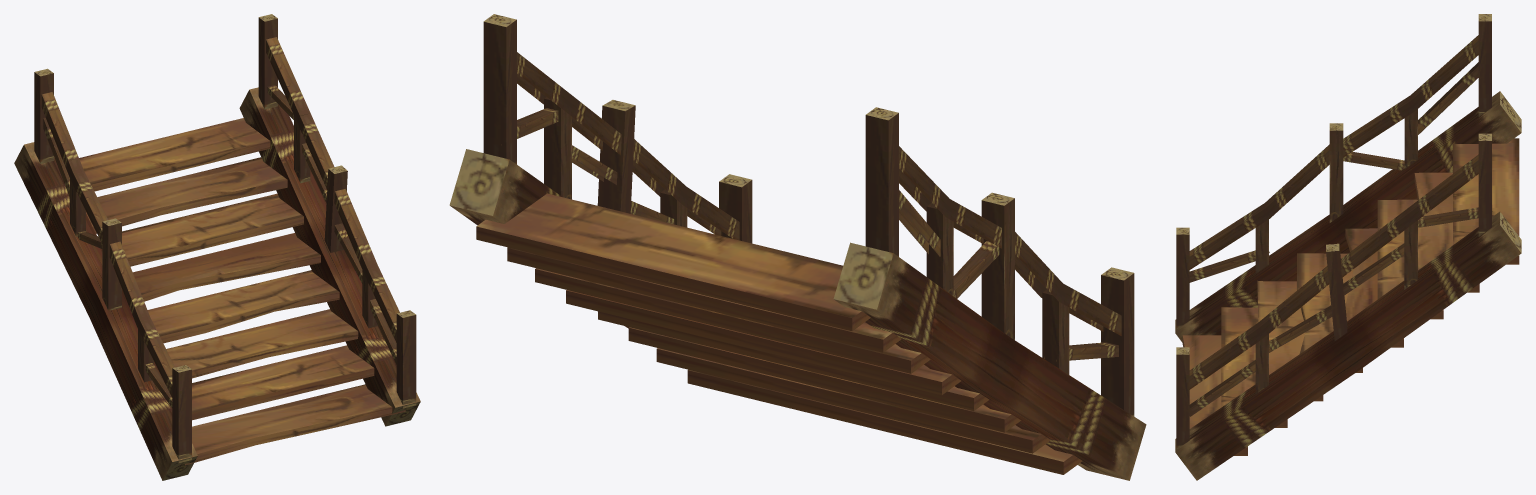
The model's file is environment_common_zhandao_001_a.FBX.
3 renders of one model, left to right at view 1: azimuth 30°, elevation 25°; view 2: azimuth 150°, elevation 25°; view 3: azimuth 270°, elevation 25°, orthographic. The views are drawn at different scales.
Parts seen in each view (by area): view 1: environment_common_zhandao_001_a; view 2: environment_common_zhandao_001_a; view 3: environment_common_zhandao_001_a.
Part boxes in pixels (<box>): environment_common_zhandao_001_a: <box>14,14,420,480</box>; environment_common_zhandao_001_a: <box>449,14,1146,480</box>; environment_common_zhandao_001_a: <box>1175,14,1521,480</box>.
Bounding box in the file's own units: 534 × 628 × 583.
